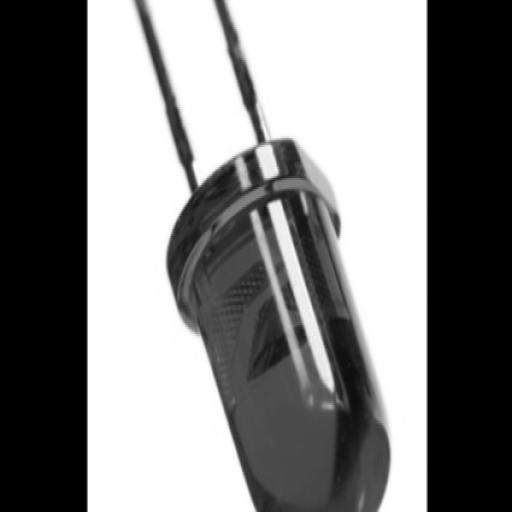LED: (136, 66, 442, 512)
